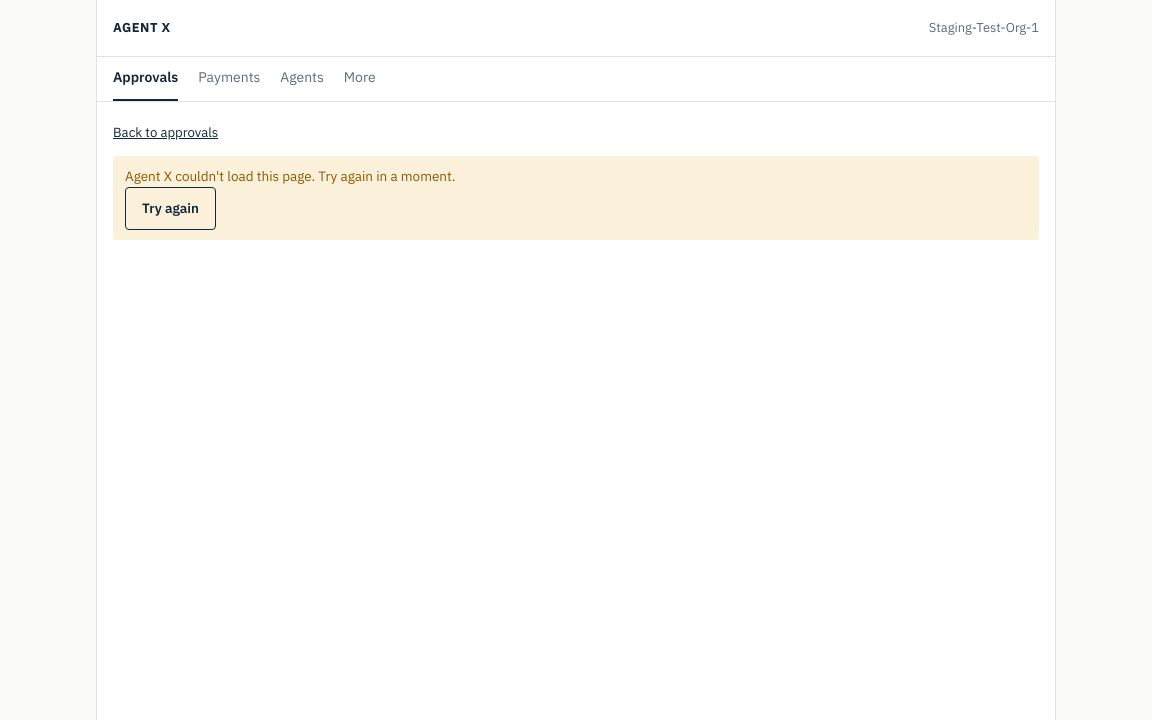
Test: one request’s page (6B1) › says a request that couldn’t load failed, with a retry
The width and height of the screenshot is (1152, 720).
Click the button "Try again" at (170, 208), box [125, 187, 216, 230]
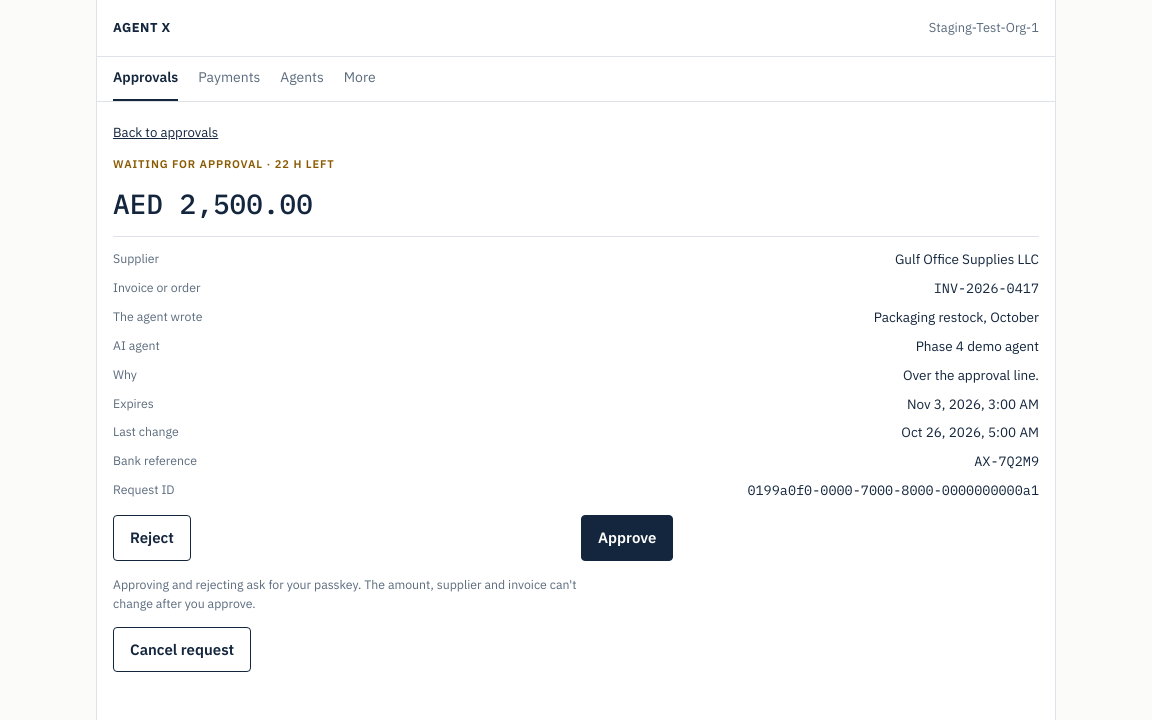
Now the heading "AED 2,500.00" is shown, box [113, 186, 313, 222]
